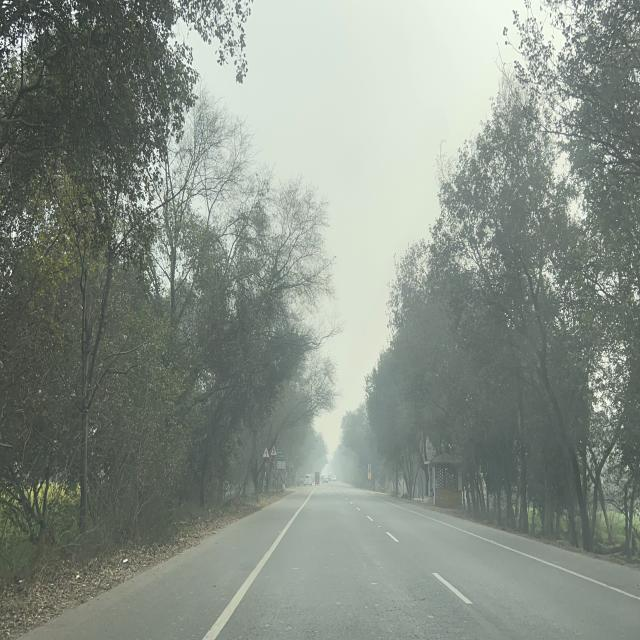GENERAL: (276, 449, 284, 459)
PEDESTRIAN_CROSSING: (270, 443, 278, 456)
SIDE_ROAD_LEFT: (262, 446, 270, 459)
